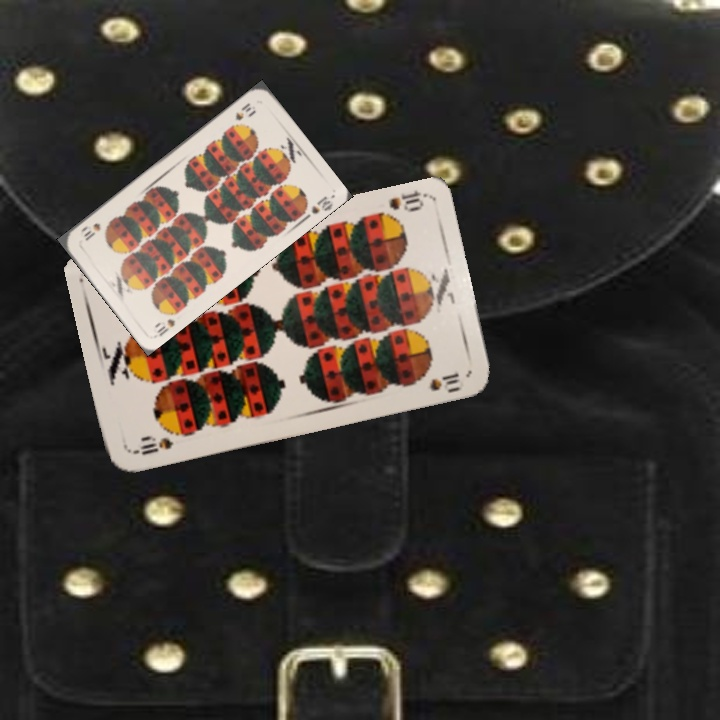S10: (127, 433, 176, 458), (385, 187, 428, 215), (153, 314, 178, 339), (231, 99, 254, 123)
